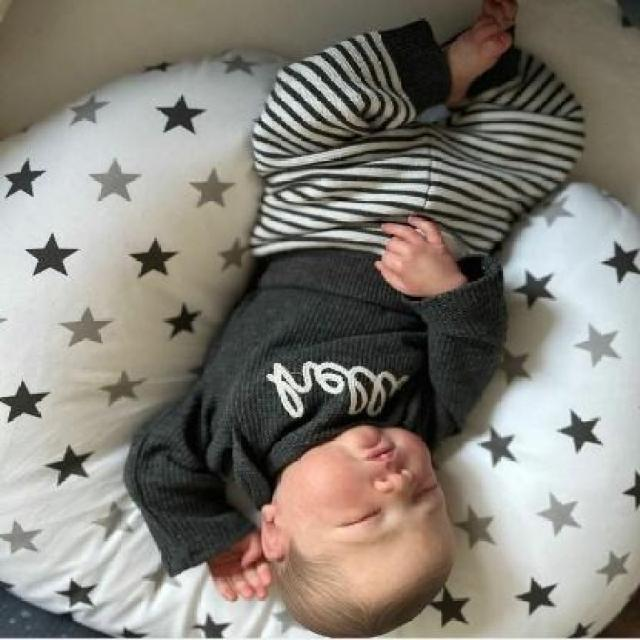baby: (121, 4, 583, 640)
